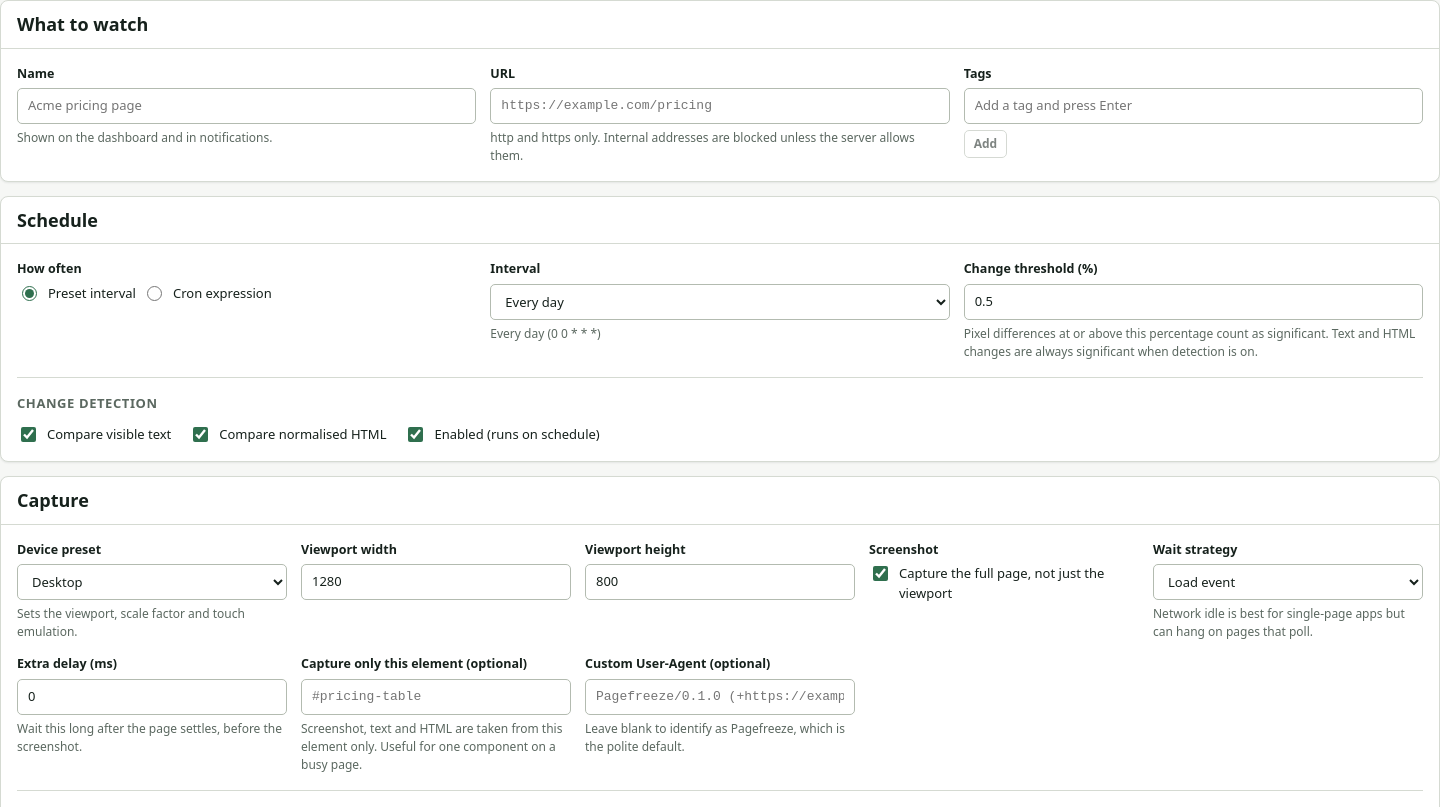
Test: MonitorForm schedule › switching to cron supplies a valid starting expression
The image size is (1440, 807).
Click the radio button labelled "Cron expression". click: point(154, 294)
box: [147,286,162,301]
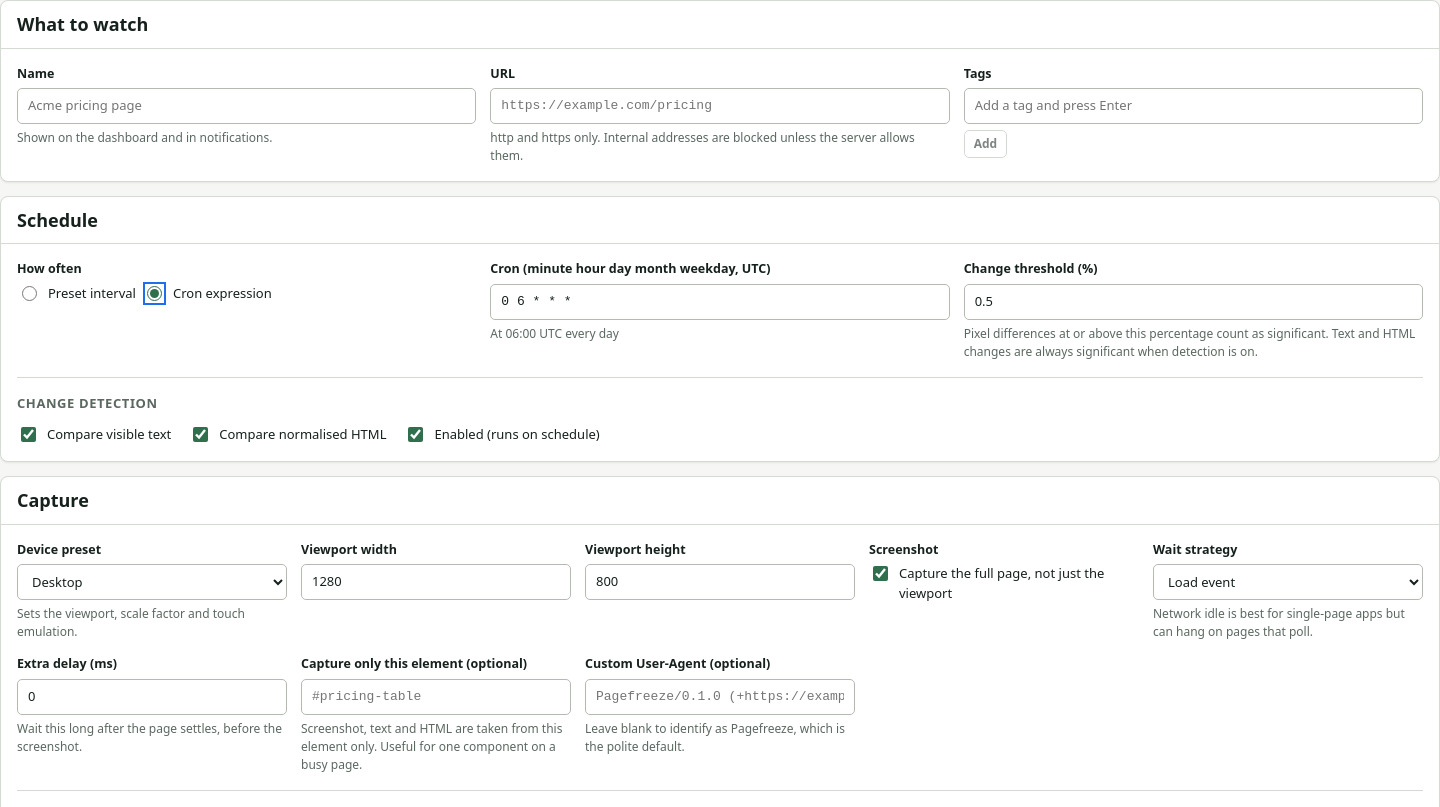
Expected: the field labelled "Cron (minute hour day month weekday, UTC)" holds "0 6 * * *", [490,284,950,320]
